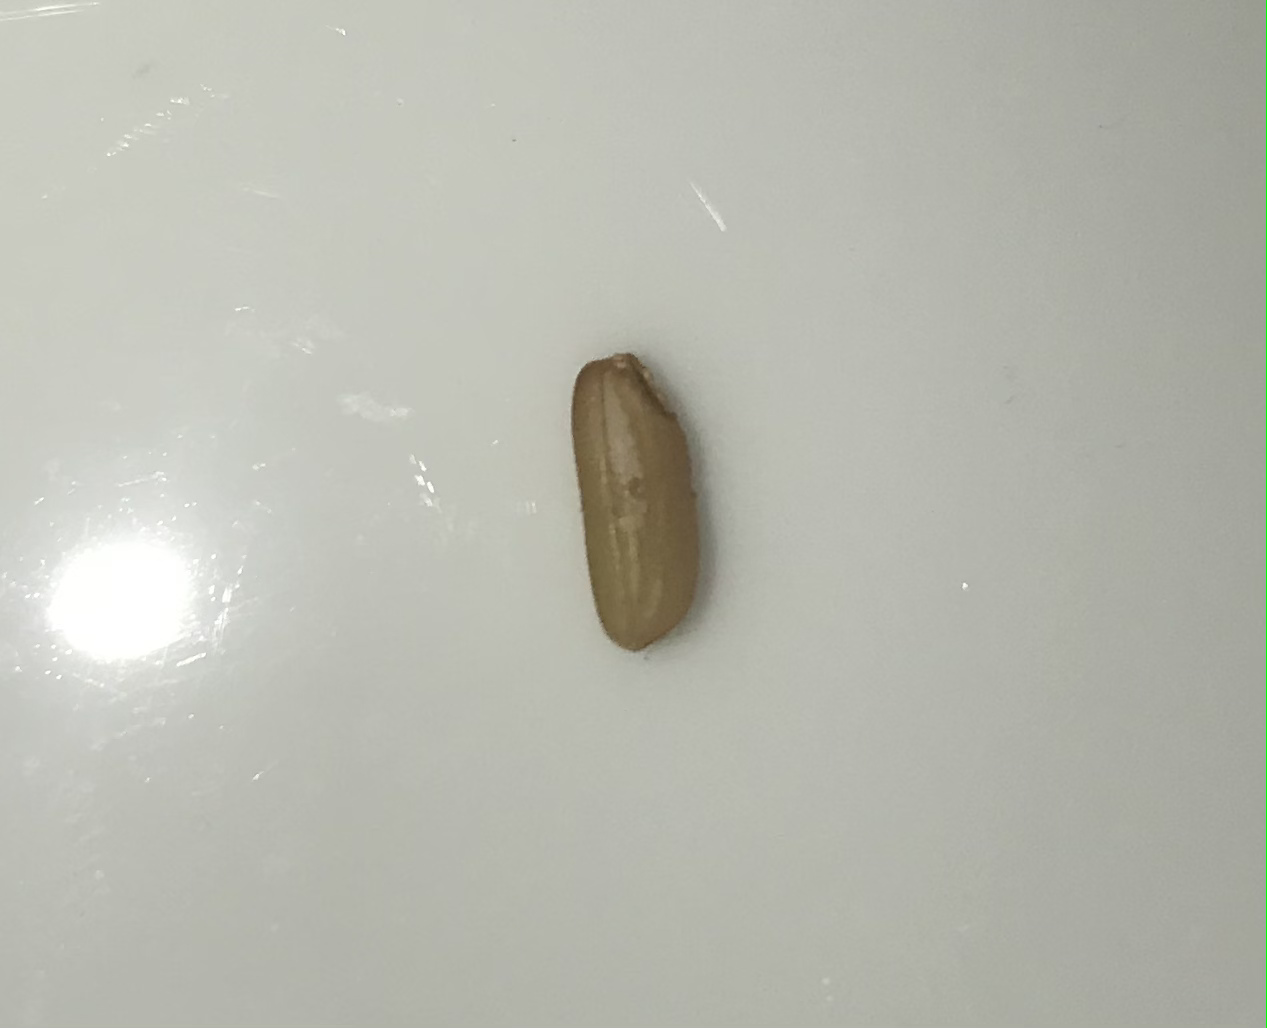Gao Lut Dien Bien: (558, 331, 721, 667)
